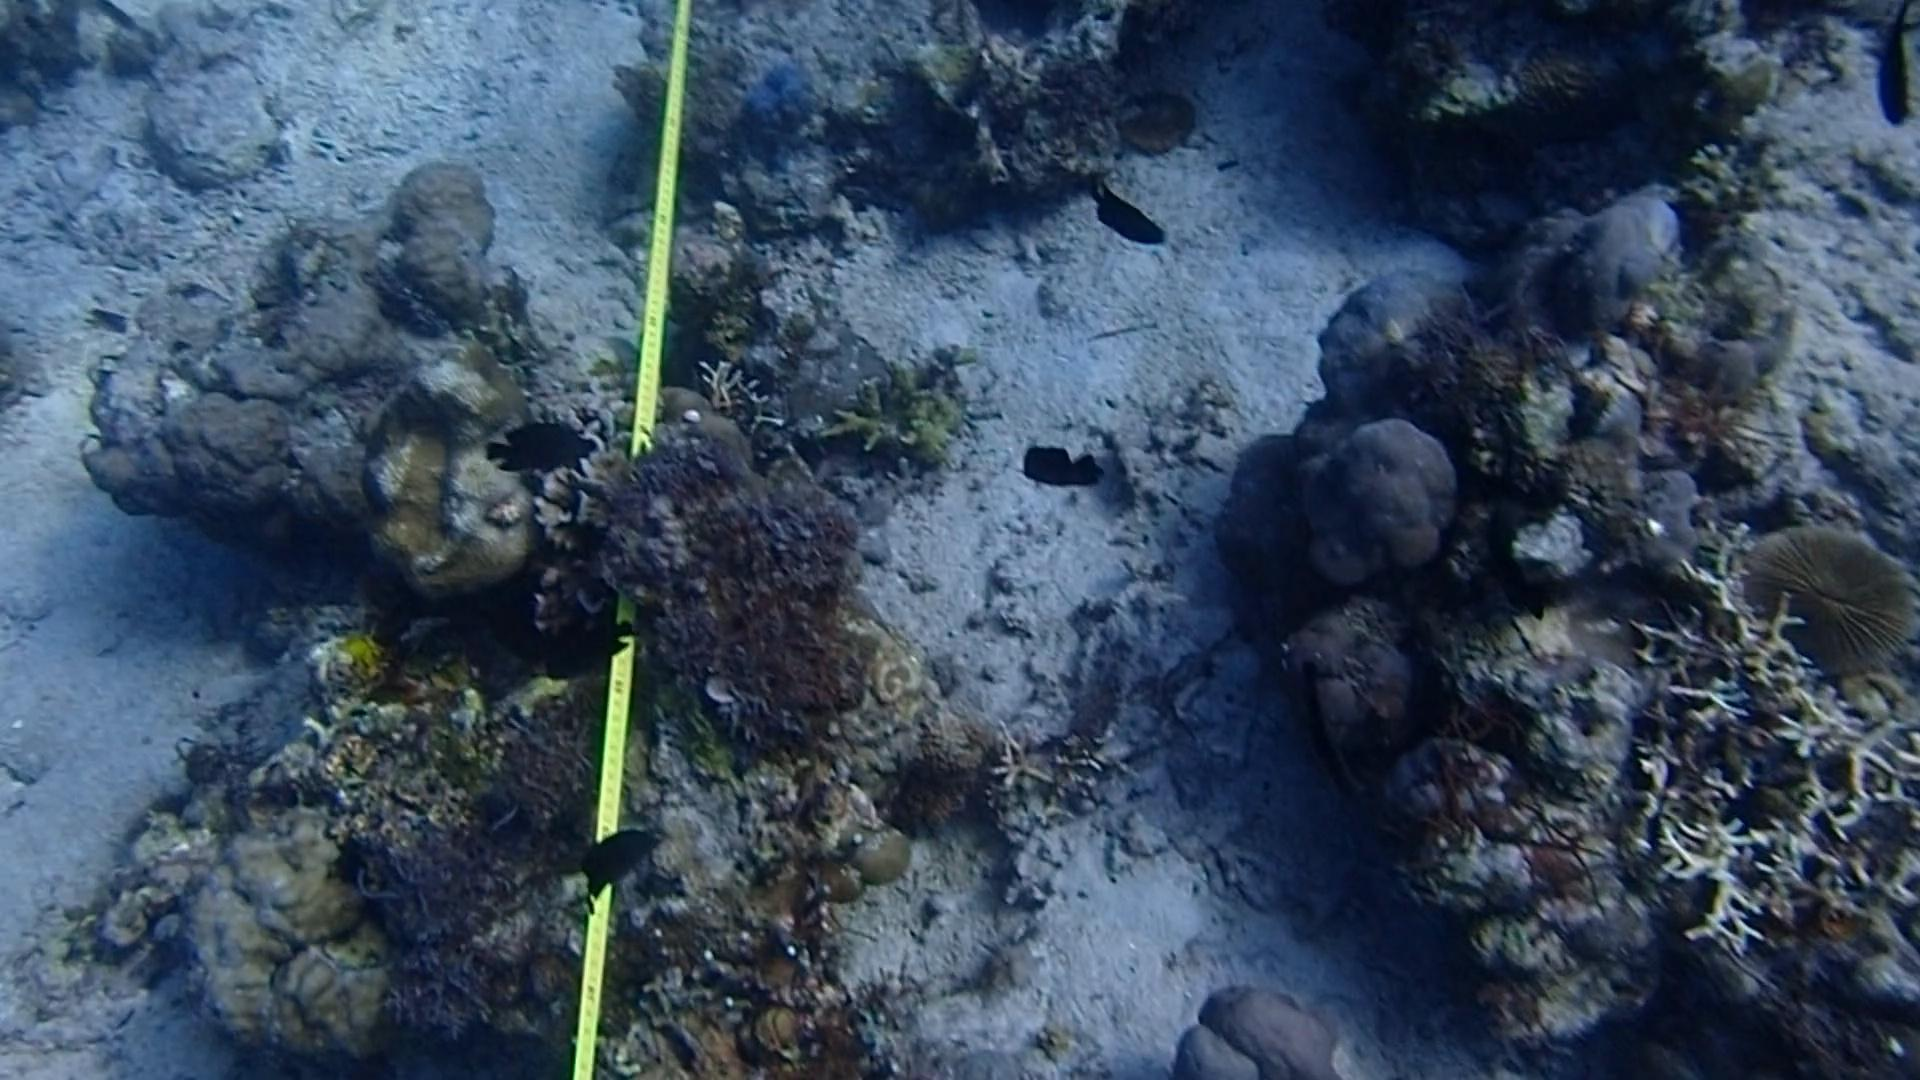Dark Fish: (1284, 655, 1387, 796), (562, 814, 687, 913), (535, 591, 654, 688), (481, 415, 607, 491), (1474, 505, 1544, 630), (1075, 181, 1187, 251), (1006, 430, 1125, 495), (1865, 0, 1920, 124)
